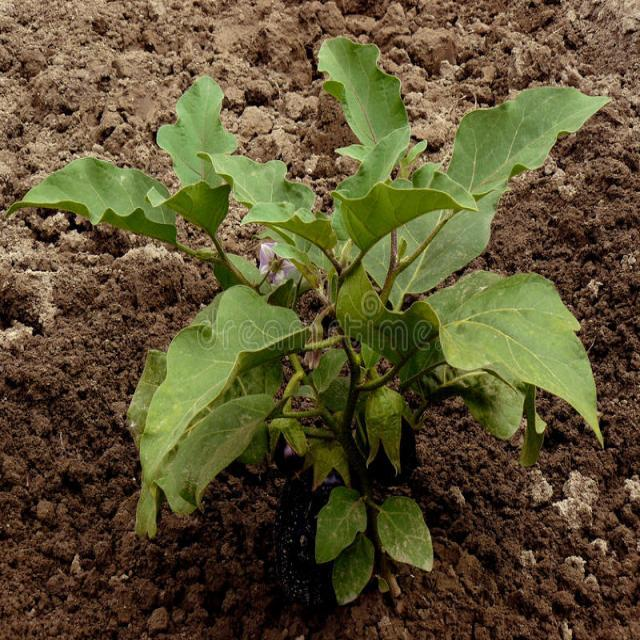brinjal: (6, 37, 610, 607)
tomato: (34, 186, 38, 196), (362, 471, 367, 476)
